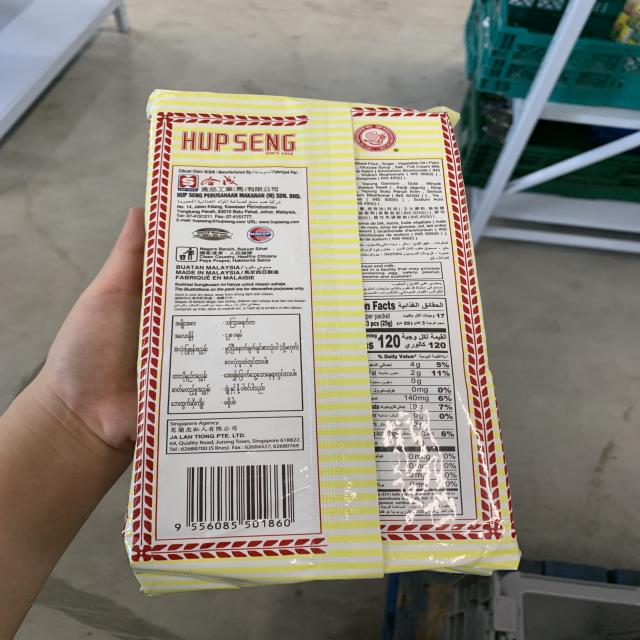object_name: (142, 91, 504, 576)
